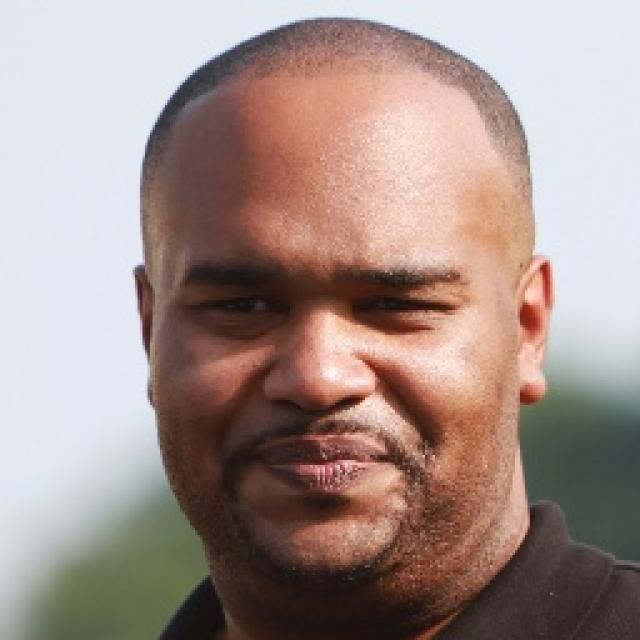earlobe: (514, 253, 553, 407), (130, 260, 161, 412)
